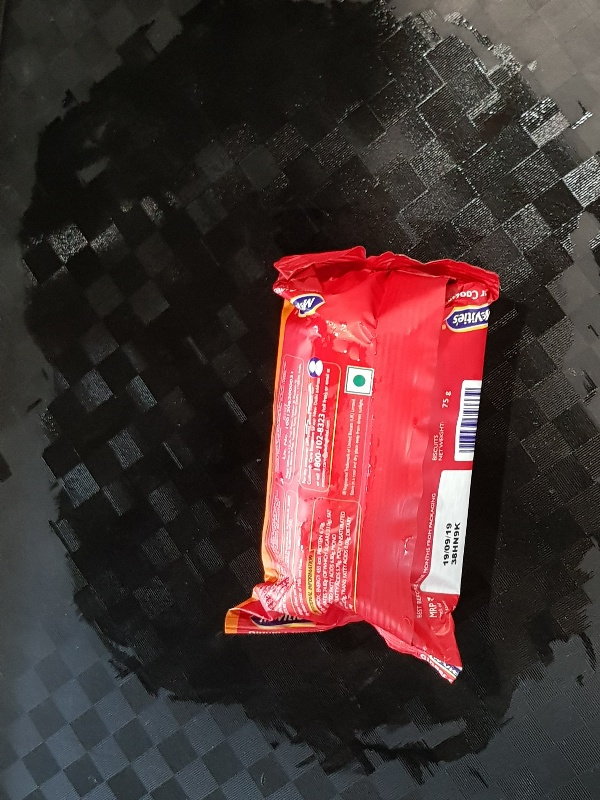Mcvitie's Digestive: (220, 244, 501, 687)
